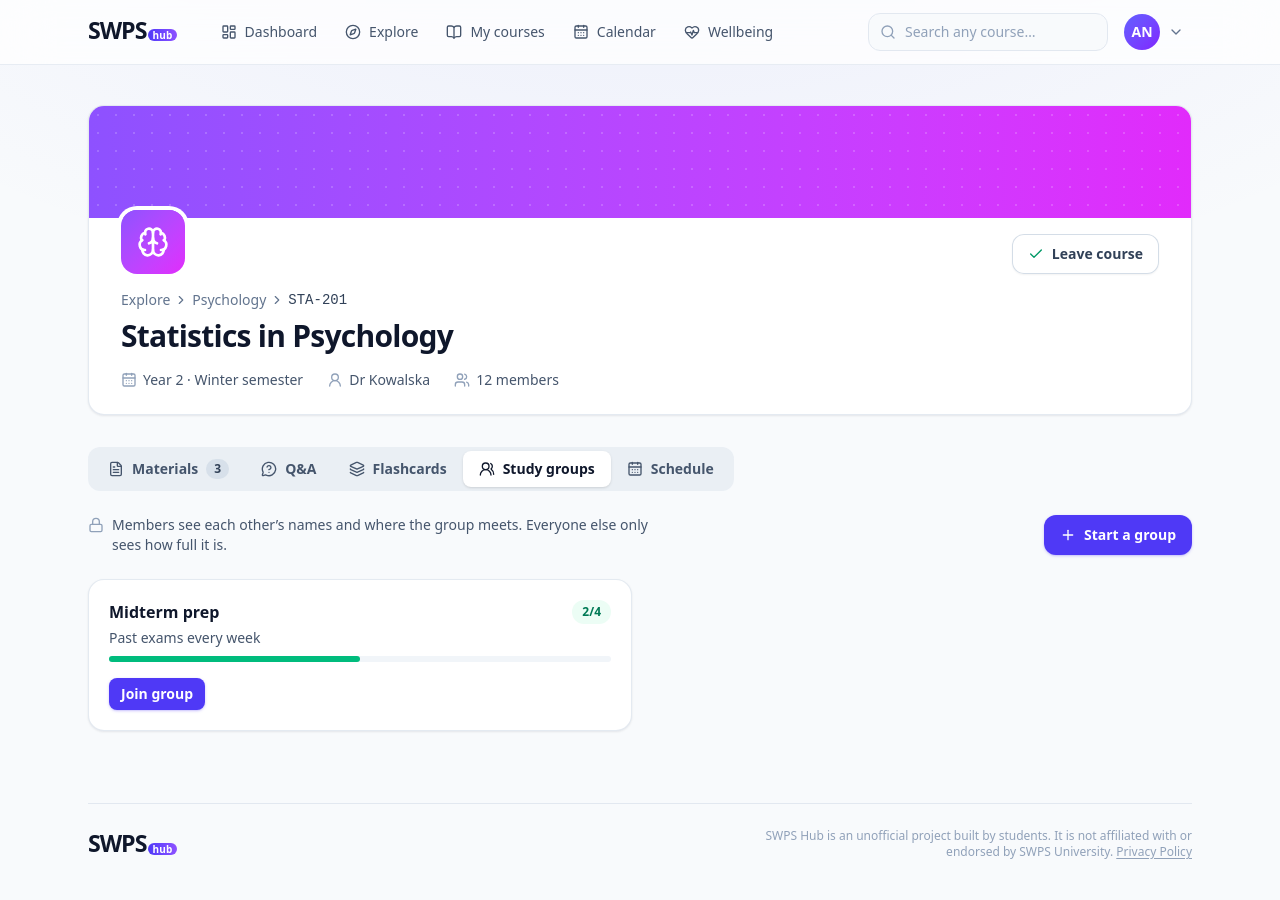
Test: Study groups › hides members and meeting place until you join
This screenshot has width=1280, height=900.
Expected: the text "2/4" is shown, [572,600,611,624]
Expected: the text "Library room" is not shown
Click the button "Join group" at [157, 694], box [109,678,205,710]
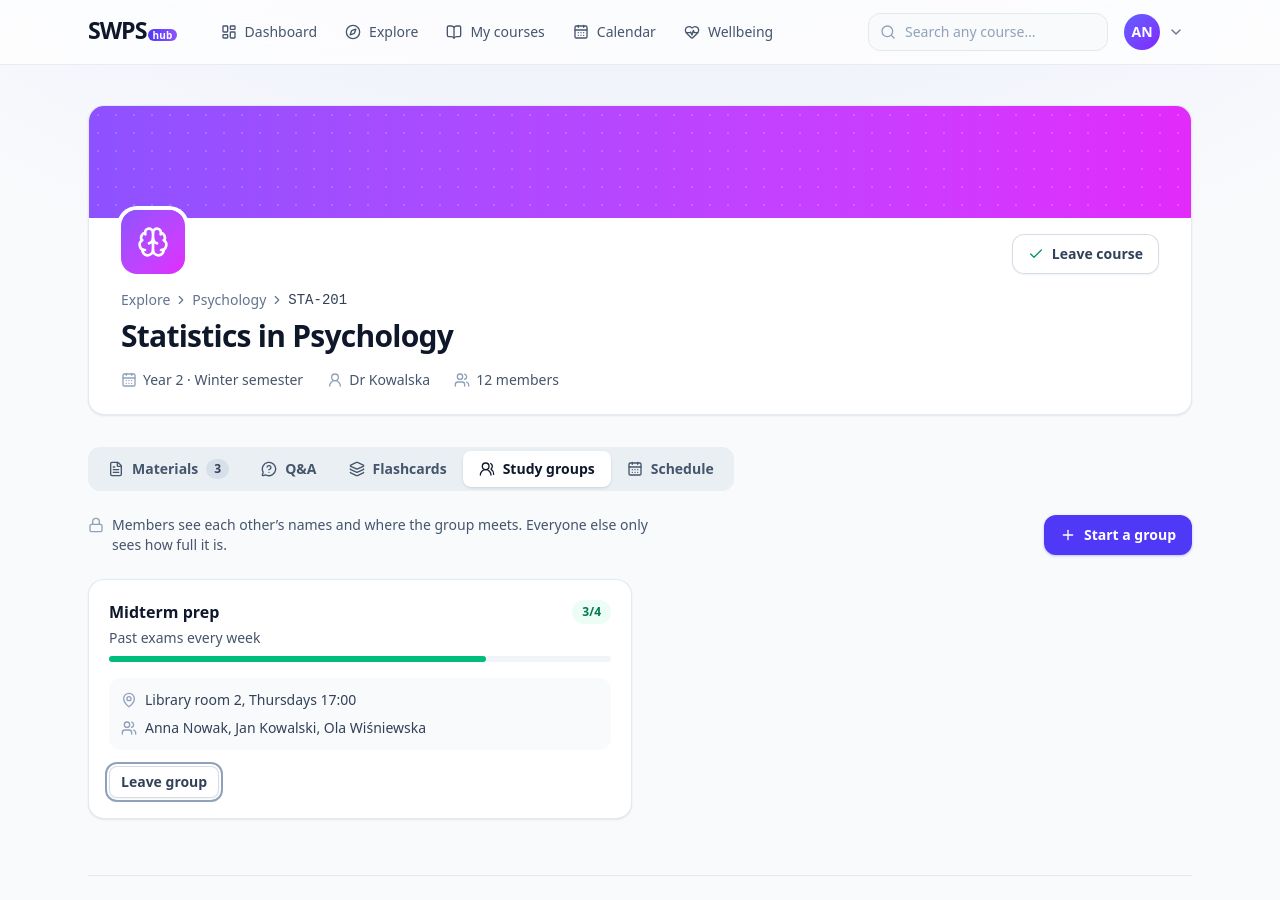
Expected: the text "Library room 2, Thursdays 17:00" is shown, [121,690,356,709]
Expected: the text "Anna Nowak, Jan Kowalski, Ola Wiśniewska" is shown, [121,718,426,737]
Expected: the button "Leave group" is shown, [109,766,219,798]
